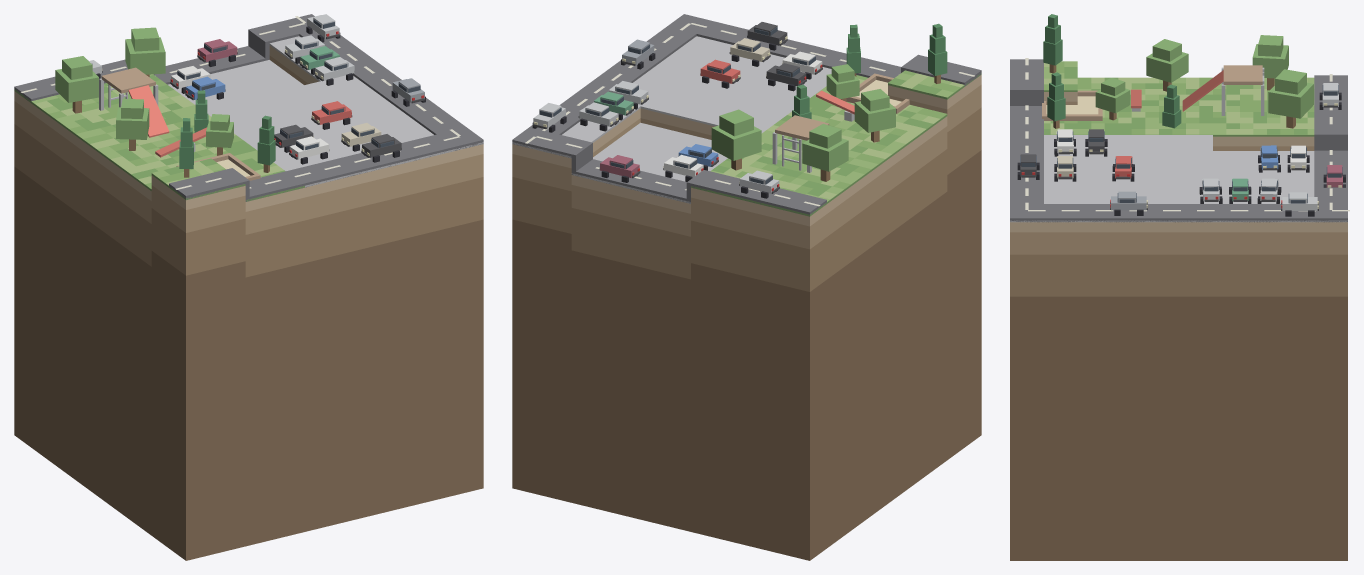
Rendered from block_23_wetlands_0.glb.
The picture shows the model from 3 angles, left to right: view 1: azimuth 30°, elevation 25°; view 2: azimuth 150°, elevation 25°; view 3: azimuth 270°, elevation 25°; orthographic projection.
Visible parts, largest first — view 1: Patch_UpperRight_b23_WL, Resid_UpperRight_b23_WL, Roads_UpperRight_b23_WL, PlayEquip_UpperRight_b23_WL, RTree_45_WL, RTree_46_WL, RTree_43_WL, RTree_42_WL, RTree_41_WL, RoadMarks_UpperRight_b23_WL, RCar_4_WL, PCar_0_WL (+12 smaller); view 2: Patch_UpperRight_b23_WL, Resid_UpperRight_b23_WL, Roads_UpperRight_b23_WL, PlayEquip_UpperRight_b23_WL, RTree_46_WL, RTree_45_WL, RTree_43_WL, RTree_42_WL, RTree_40_WL, PCar_4_WL, PCar_6_WL, PCar_9_WL (+13 smaller); view 3: Patch_UpperRight_b23_WL, Resid_UpperRight_b23_WL, Roads_UpperRight_b23_WL, PlayEquip_UpperRight_b23_WL, RTree_46_WL, RTree_43_WL, RTree_45_WL, RTree_42_WL, RTree_40_WL, RTree_41_WL, RoadMarks_UpperRight_b23_WL, RCar_14_WL (+14 smaller).
Part boxes in pixels (left/top/right/bottom): Patch_UpperRight_b23_WL: left=14, top=46, right=483, bottom=560; Resid_UpperRight_b23_WL: left=14, top=36, right=483, bottom=201; Roads_UpperRight_b23_WL: left=14, top=14, right=483, bottom=201; PlayEquip_UpperRight_b23_WL: left=99, top=67, right=260, bottom=180; RTree_45_WL: left=55, top=56, right=98, bottom=113; RTree_46_WL: left=125, top=27, right=165, bottom=76; RTree_43_WL: left=116, top=98, right=149, bottom=150; RTree_42_WL: left=206, top=114, right=233, bottom=155; RTree_41_WL: left=257, top=115, right=275, bottom=172; RoadMarks_UpperRight_b23_WL: left=21, top=16, right=460, bottom=189; RCar_4_WL: left=197, top=39, right=237, bottom=66; PCar_0_WL: left=289, top=136, right=329, bottom=164; Patch_UpperRight_b23_WL: left=512, top=75, right=981, bottom=560; Resid_UpperRight_b23_WL: left=512, top=36, right=981, bottom=216; Roads_UpperRight_b23_WL: left=512, top=14, right=981, bottom=216; PlayEquip_UpperRight_b23_WL: left=772, top=73, right=909, bottom=172; RTree_46_WL: left=711, top=109, right=761, bottom=170; RTree_45_WL: left=802, top=123, right=848, bottom=181; RTree_43_WL: left=854, top=89, right=895, bottom=142; RTree_42_WL: left=826, top=64, right=859, bottom=101; RTree_40_WL: left=928, top=23, right=947, bottom=83; PCar_4_WL: left=729, top=38, right=770, bottom=66; PCar_6_WL: left=700, top=59, right=740, bottom=88; PCar_9_WL: left=578, top=102, right=618, bottom=131; Patch_UpperRight_b23_WL: left=1010, top=92, right=1347, bottom=560; Resid_UpperRight_b23_WL: left=1010, top=61, right=1347, bottom=222; Roads_UpperRight_b23_WL: left=1010, top=59, right=1347, bottom=222; PlayEquip_UpperRight_b23_WL: left=1042, top=65, right=1264, bottom=120; RTree_46_WL: left=1268, top=69, right=1313, bottom=128; RTree_43_WL: left=1146, top=39, right=1188, bottom=91; RTree_45_WL: left=1252, top=35, right=1288, bottom=90; RTree_42_WL: left=1095, top=77, right=1130, bottom=120; RTree_40_WL: left=1043, top=14, right=1062, bottom=73; RTree_41_WL: left=1047, top=72, right=1065, bottom=128; RoadMarks_UpperRight_b23_WL: left=1025, top=58, right=1349, bottom=211; RCar_14_WL: left=1110, top=191, right=1147, bottom=215.
Size of the model in its own units: 9.55 by 12.8 by 9.55.
